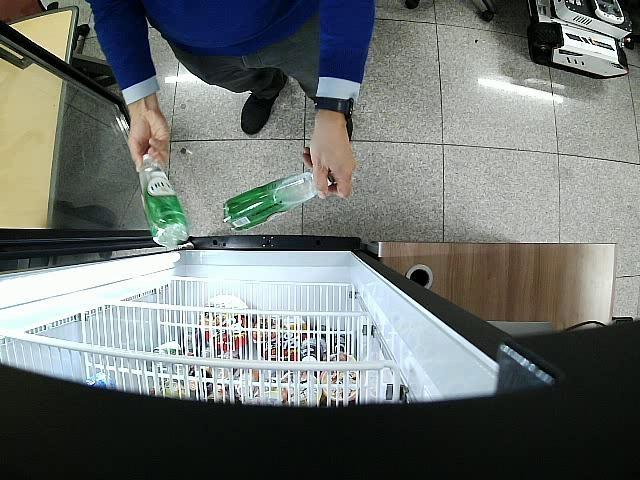18_trevi: (223, 172, 331, 230), (138, 154, 188, 249)
